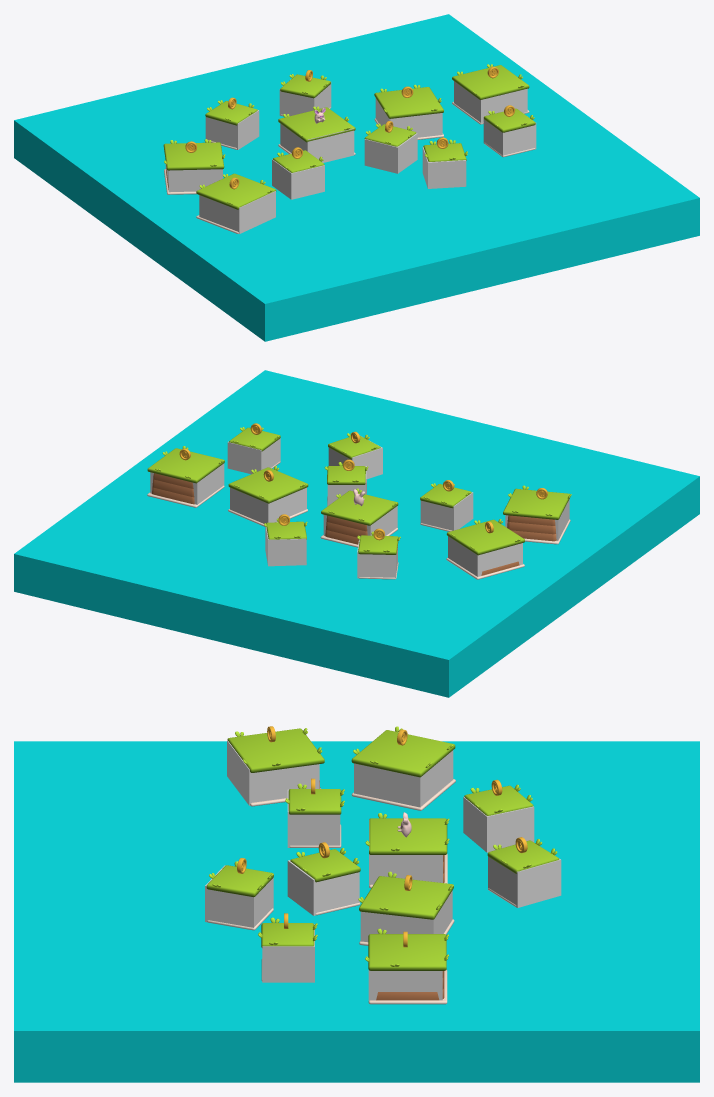
The picture shows the model from 3 angles, top to bottom: view 1: azimuth 30°, elevation 25°; view 2: azimuth 150°, elevation 25°; view 3: azimuth 270°, elevation 25°; orthographic projection. The views are drawn at different scales.
Parts seen in each view (by area): view 1: Plane, Cube.001, Cube, Cube.115, Cube.010, Cube.070, Cube.024, Cube.076, Cube.064, Cube.008, Cube.017, Cube.016 (+11 smaller); view 2: Plane, Cube.005, Cube.070, Cube.115, Cube.010, Cube.002, Cube.076, Cube.064, Cube.017, Cube.015, Cube.013, island2.004 (+12 smaller); view 3: Plane, Cube.002, Cube.070, Cube.115, Cube.010, Cube.076, Cube.064, Cube.001, Cube.013, Cube.016, Cube.024, Cube.014 (+12 smaller).
Boxes of the visible parts, x1,y1,x2,y2 form: Plane: (14,14,699,341); Cube.001: (199,191,275,233); Cube: (280,123,354,162); Cube.115: (374,87,443,118); Cube.010: (452,65,529,99); Cube.070: (163,142,224,170); Cube.024: (364,133,417,173); Cube.076: (196,173,276,209); Cube.064: (278,107,355,142); Cube.008: (454,81,527,124); Cube.017: (272,159,324,199); Cube.016: (205,110,259,149); Plane: (14,370,699,697); Cube.005: (230,487,306,523); Cube.070: (446,519,524,555); Cube.115: (228,467,308,503); Cube.010: (147,448,224,483); Cube.002: (448,536,522,576); Cube.076: (503,488,570,519); Cube.064: (321,490,398,525); Cube.017: (420,492,473,530); Cube.015: (227,438,280,474); Cube.013: (265,526,306,566); island2.004: (507,515,556,541); Plane: (14,741,699,1082); Cube.002: (354,750,453,807); Cube.070: (351,730,455,777); Cube.115: (359,876,453,919); Cube.010: (368,934,446,970); Cube.076: (227,728,324,772); Cube.064: (369,818,447,854); Cube.001: (227,740,319,805); Cube.013: (488,856,561,907); Cube.016: (463,797,534,852); Cube.024: (287,860,359,915); Cube.014: (205,865,273,927).
Bounding box in the file's own units: 25.97 × 4.57 × 25.97.
14 materials, 13 textured.
